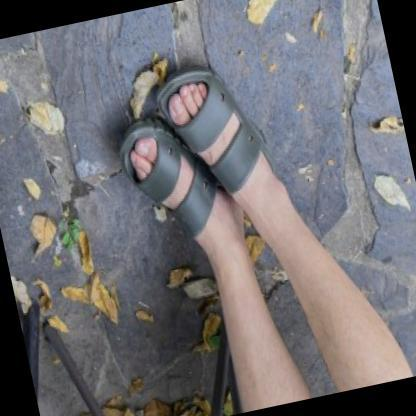no_safety-shoe: (147, 32, 303, 202), (102, 104, 227, 273)
